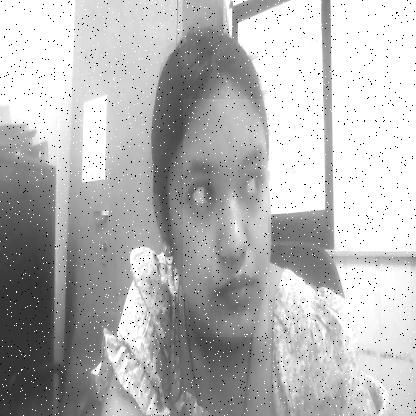Distracted: (183, 99, 268, 337)
